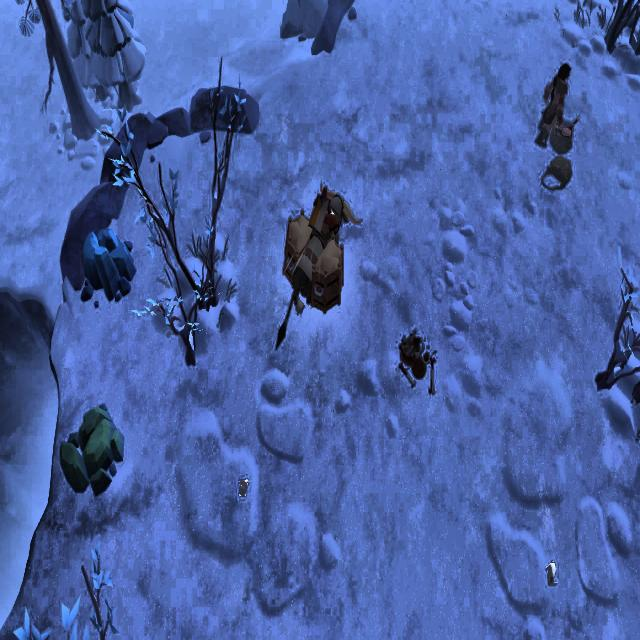enemy_factionKeeper: (534, 56, 567, 149)
rock_t3: (56, 401, 124, 496)
rock_t4: (76, 228, 135, 302)
